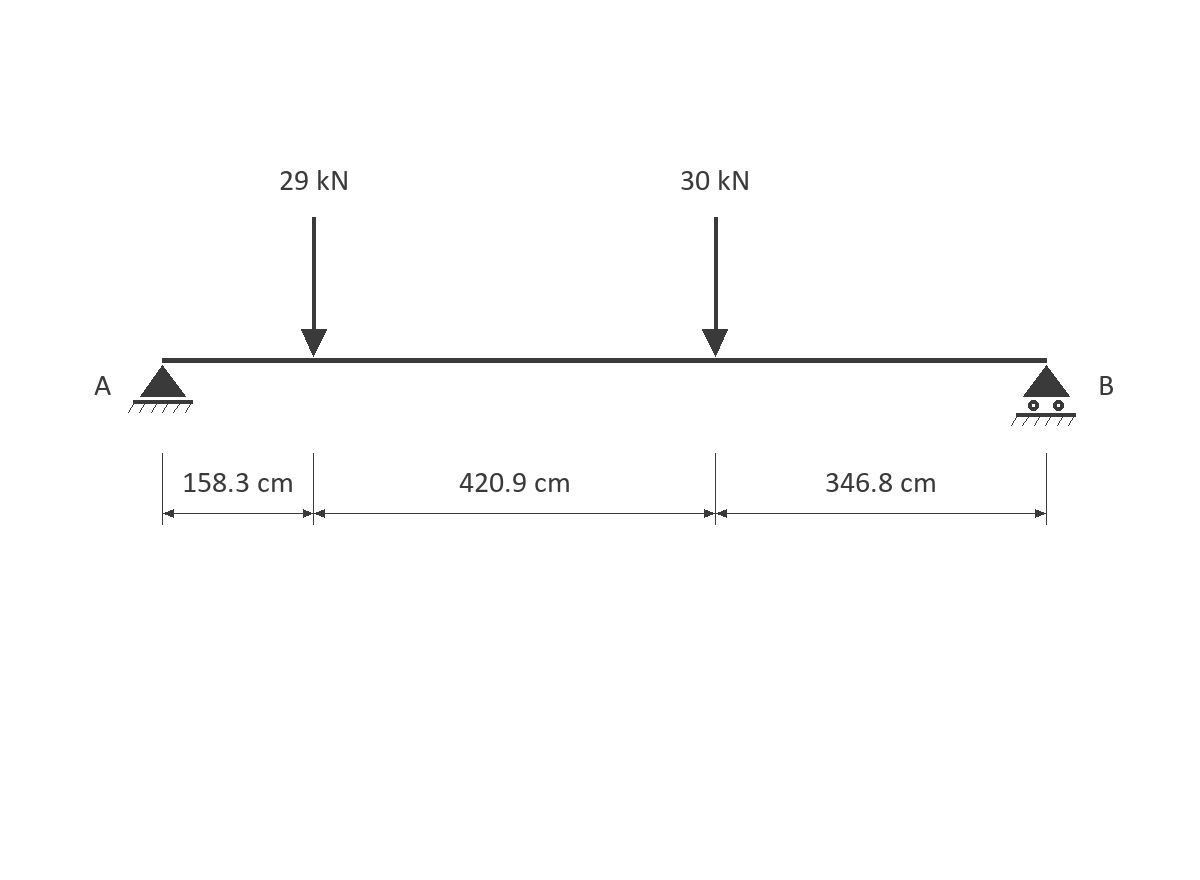pin_support: (128, 365, 193, 413)
point_load: (301, 217, 327, 357), (702, 217, 728, 357)
roller_support: (1011, 365, 1076, 426)
